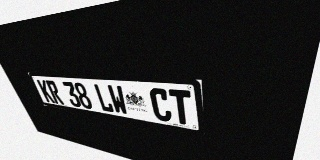3: (62, 81, 82, 108)
8: (73, 82, 94, 110)
C: (149, 88, 173, 122)
K: (36, 79, 55, 103)
L: (93, 84, 115, 113)
R: (45, 80, 65, 105)
T: (168, 89, 193, 126)
W: (107, 85, 129, 115)
